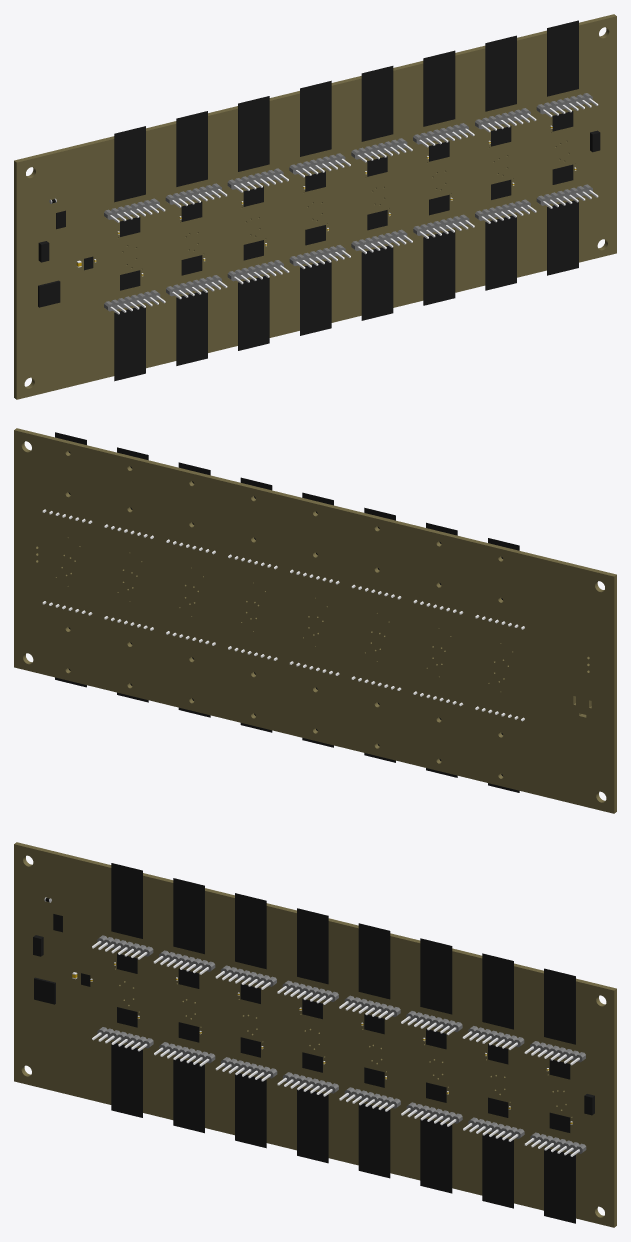
File: 128ch_analog_mux.fbx
3 renders of one model, top to bottom at view 1: azimuth 30°, elevation 25°; view 2: azimuth 150°, elevation 25°; view 3: azimuth 330°, elevation 25°, orthographic.
Visible parts, largest first — view 1: Board, Body1 (×33); view 2: Board; view 3: Board, Body1 (×32).
Part boxes in pixels (x1,y1,x2,y2): Board: (14, 14, 616, 399); Body1 (×33): (38, 20, 598, 381); Board: (14, 428, 616, 813); Board: (14, 842, 616, 1227); Body1 (×32): (92, 863, 586, 1223).
Bounding box in the file's own units: 233 × 91.8 × 11.34.
